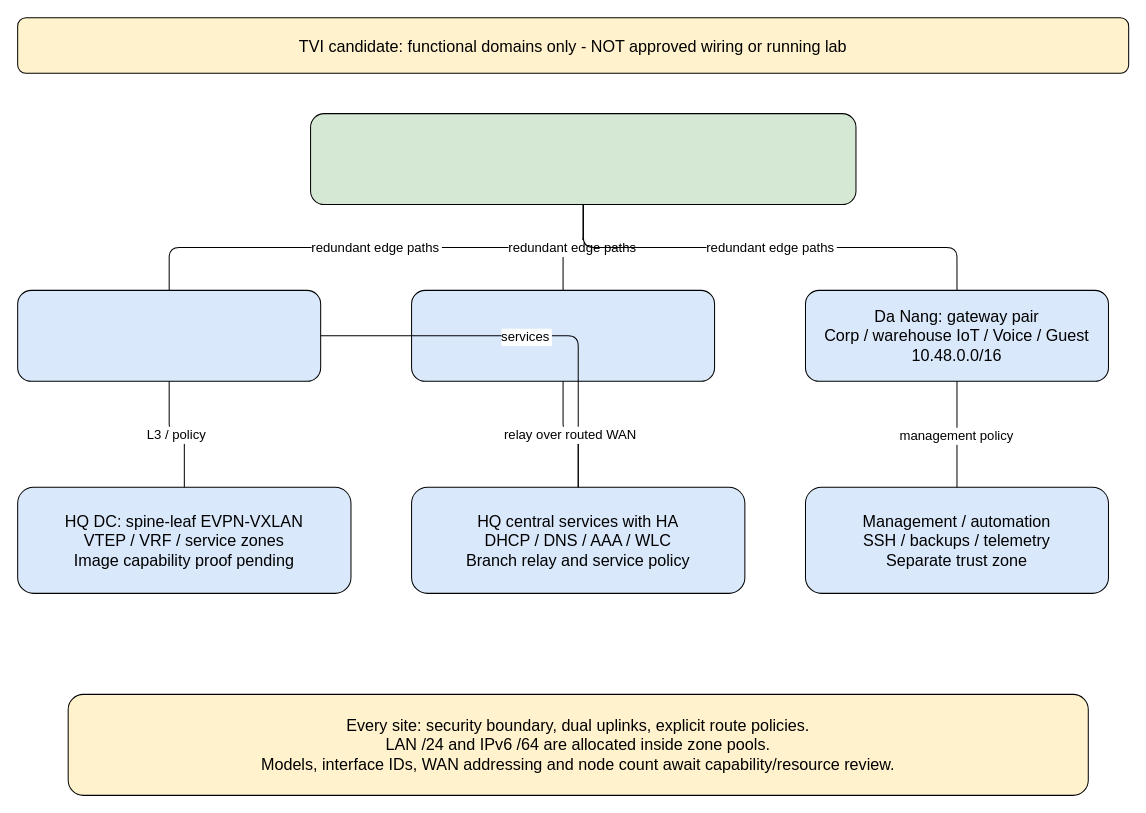
Image size: 1146x813. Some labels were removed from this diagram. The centre of each missing label's shape, as x and y in pixels:
Hanoi campus: gateway pair Corp / R&D / Voice / IoT / Guest 10.32.0.0/16: [563,335]
HCMC campus: core/gateway pair Corp / Voice / IoT / Guest 10.16.0.0/16: [169,335]
WAN demarcation: ISP A + ISP B + MPLS BGP / IPsec or SD-WAN per approved scope: [583,159]
